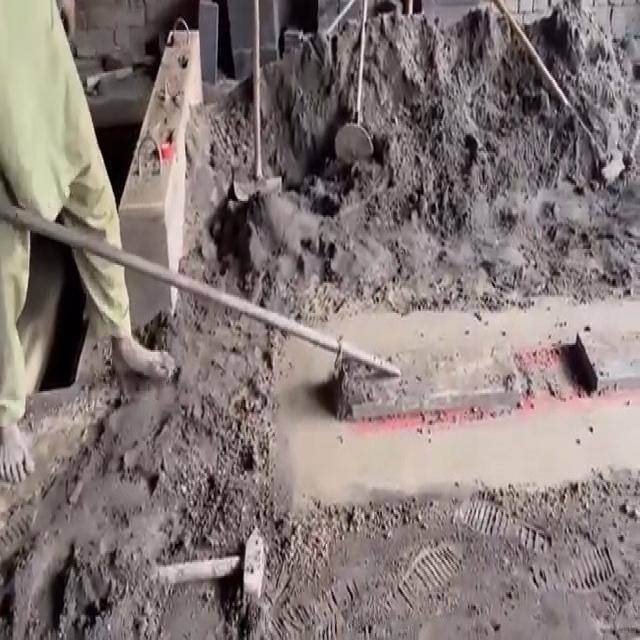dress: (0, 3, 131, 421)
